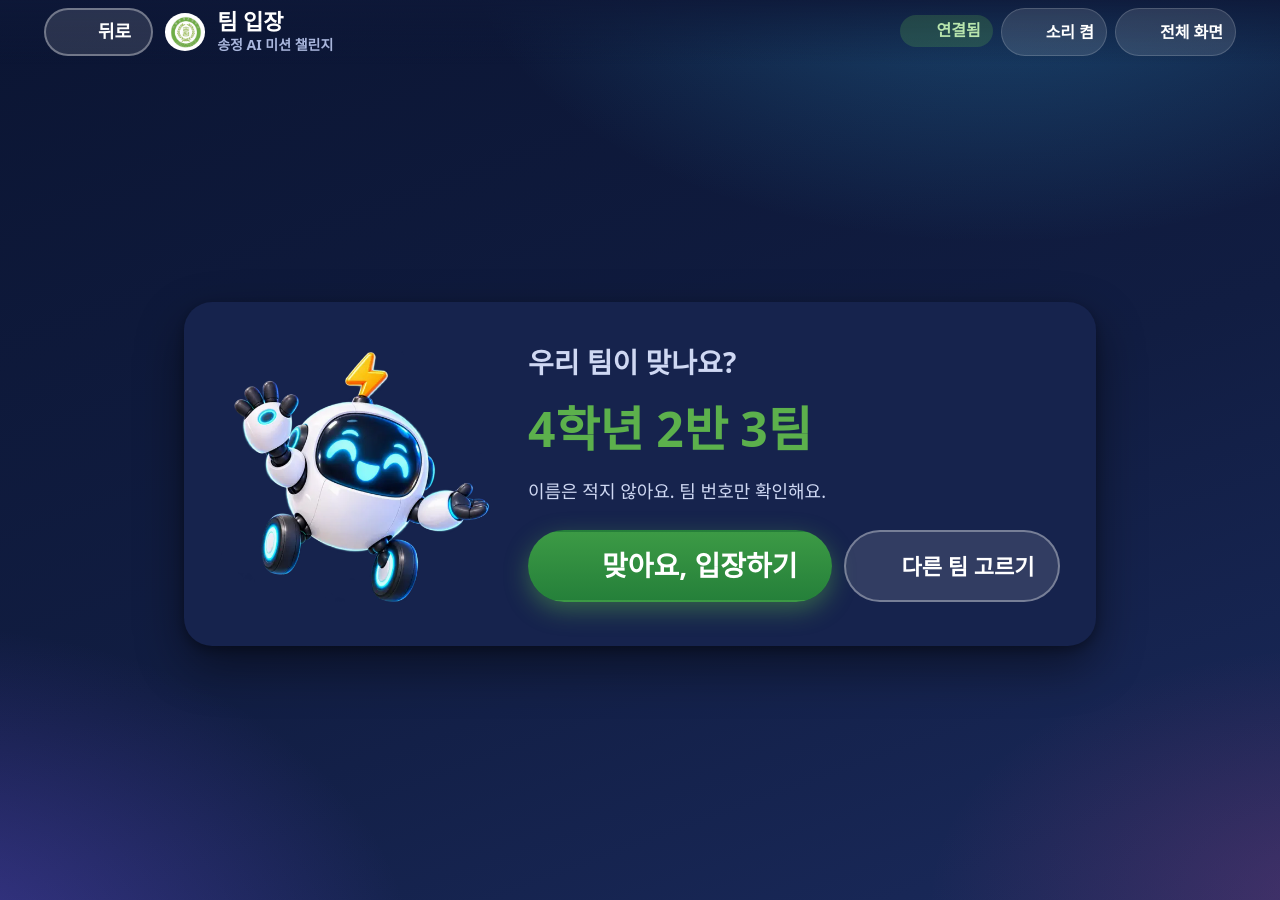
Test: 기기 잠금 해제 › 다른 팀에 묶인 기기는 어느 팀인지와 기기 번호를 보여 준다
Click the button "맞아요, 입장하기": (680, 566) [528,530,832,602]
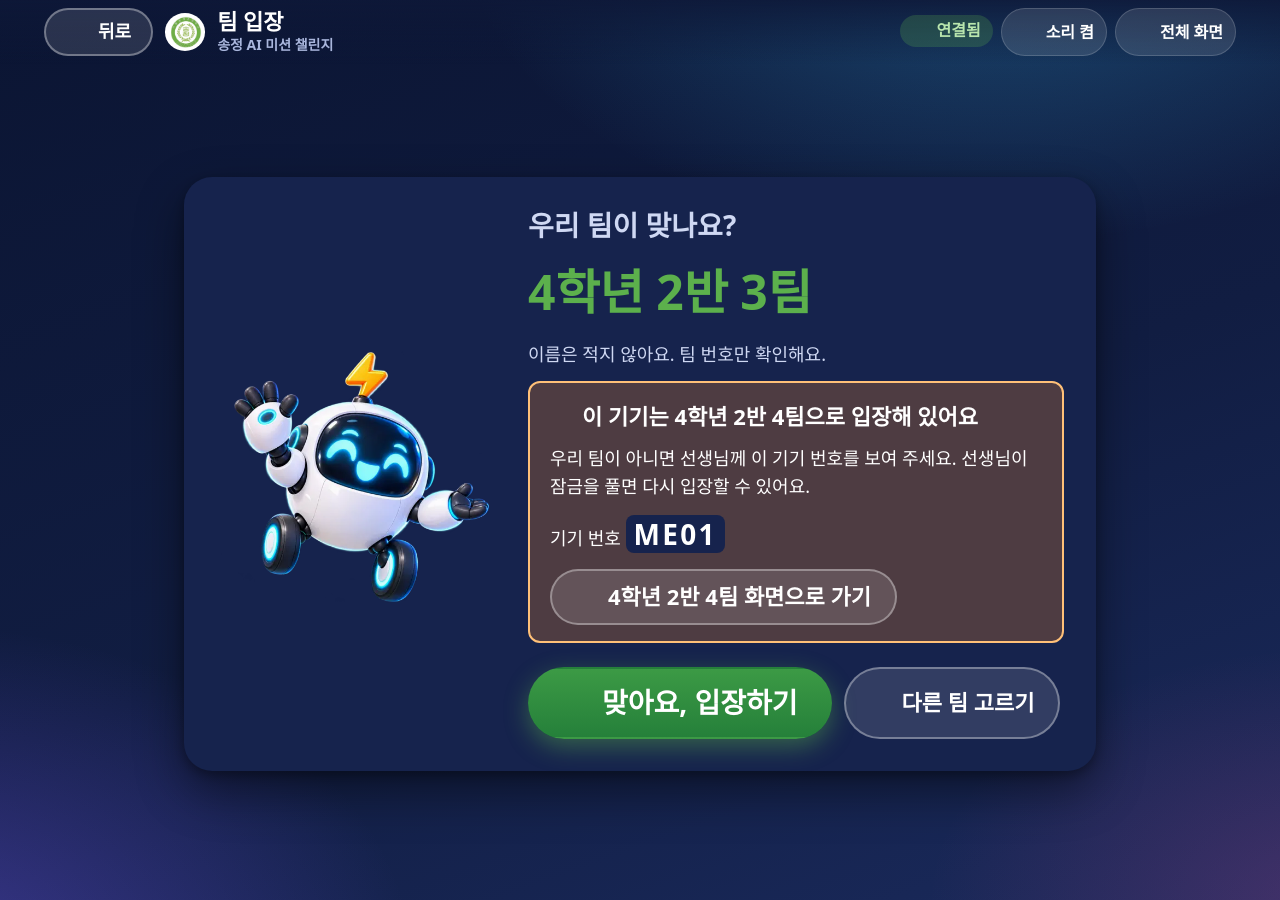
Expected: the text "ME01" is shown, [626,515,725,553]
